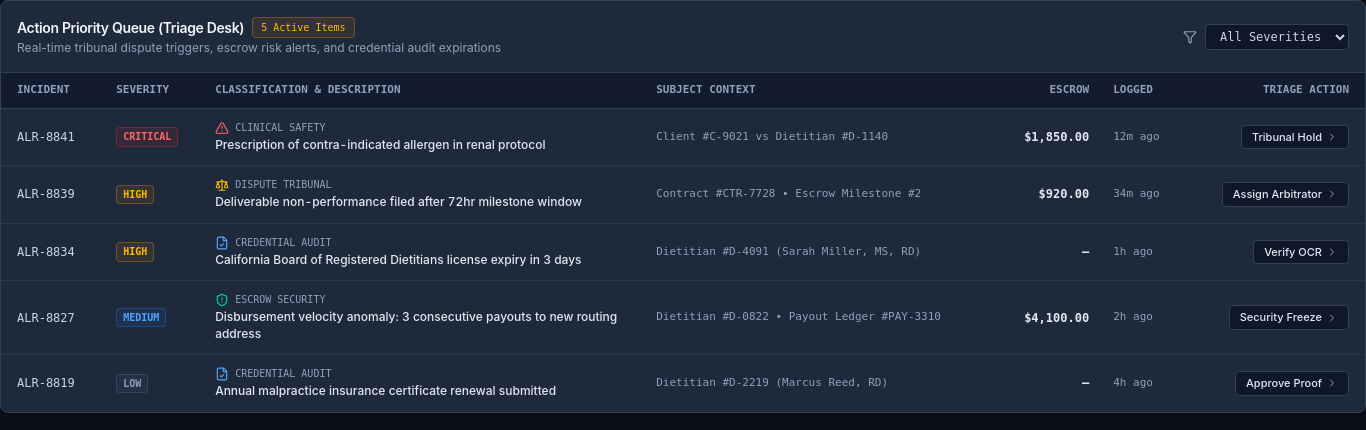
Test: Triage Alerts Desk › allows operator to action triage items
This screenshot has width=1366, height=430.
Click the button "Tribunal Hold".
click(1295, 137)  # box [1241,125,1349,149]
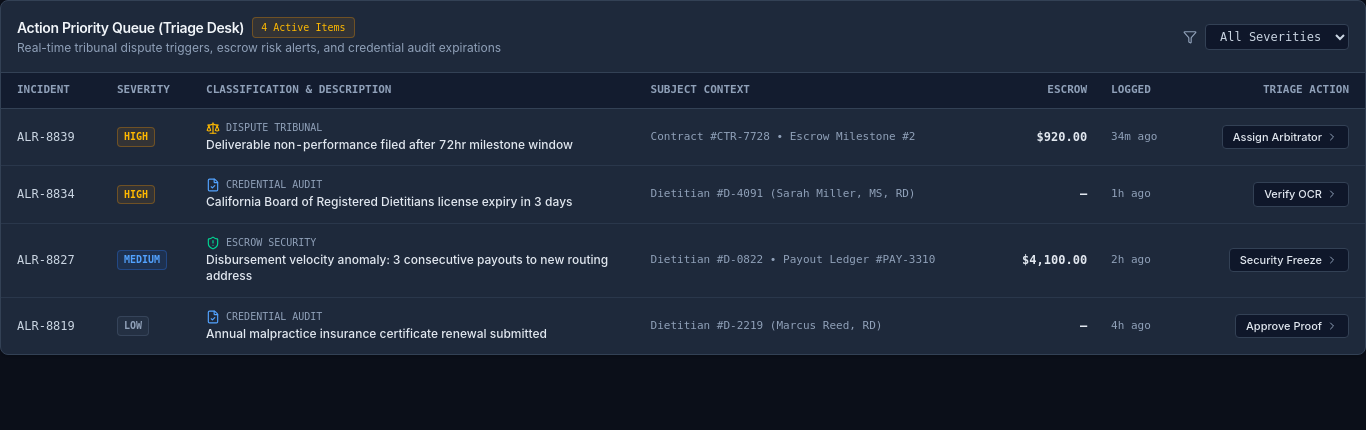
Check: the text "Prescription of contra-indicated allergen in renal protocol" is gone
